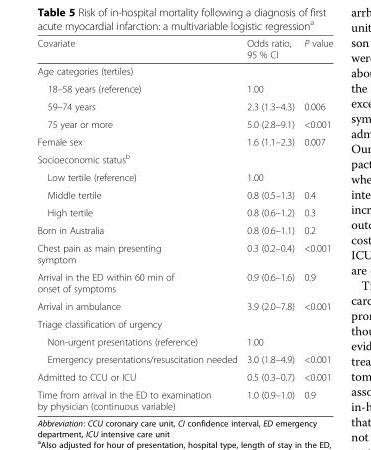table: (36, 37, 332, 411)
table column: (36, 37, 241, 411), (241, 37, 298, 411), (298, 37, 332, 411)
table column header: (36, 37, 332, 62)
table projected row header: (36, 149, 332, 168), (36, 314, 332, 332), (36, 62, 332, 79)
table row: (36, 267, 332, 297), (36, 238, 332, 267), (36, 385, 332, 411), (36, 37, 332, 62), (36, 149, 332, 168), (36, 79, 332, 97), (36, 114, 332, 132), (36, 185, 332, 203), (36, 203, 332, 221), (36, 314, 332, 332), (36, 332, 332, 350), (36, 367, 332, 385), (36, 62, 332, 79), (36, 97, 332, 114), (36, 132, 332, 149), (36, 168, 332, 185), (36, 221, 332, 238), (36, 297, 332, 314), (36, 350, 332, 367)
